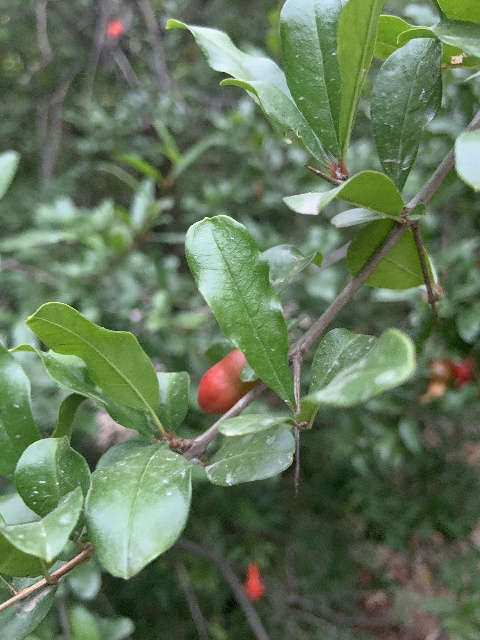bud: (197, 348, 260, 416)
early-fruit: (417, 360, 451, 405)
